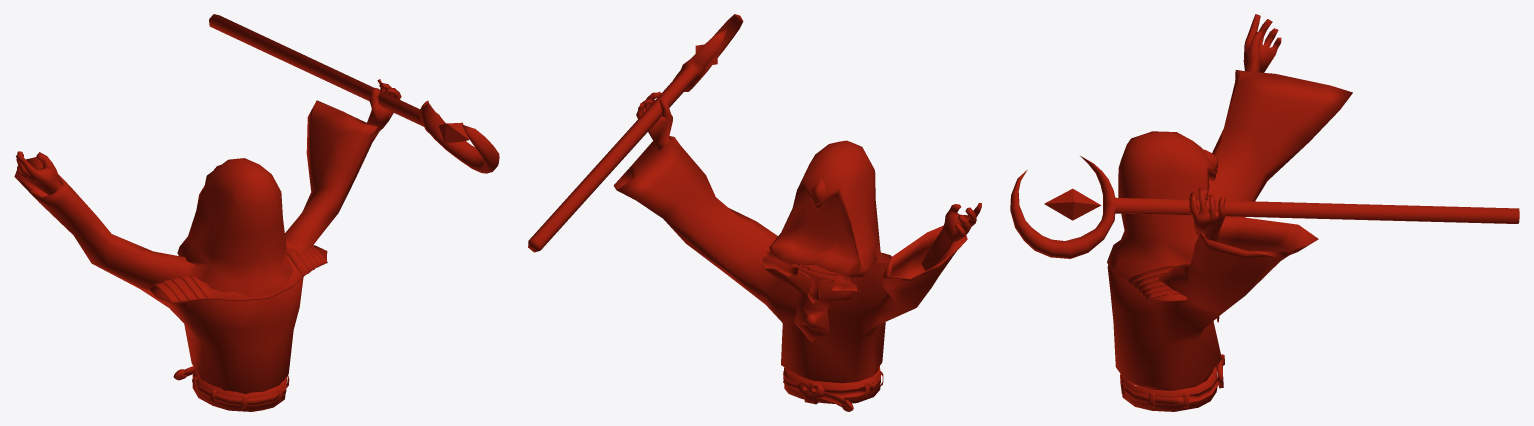
File: top_000031.obj
The picture shows the model from 3 angles, left to right: view 1: azimuth 30°, elevation 25°; view 2: azimuth 150°, elevation 25°; view 3: azimuth 270°, elevation 25°; orthographic projection. The views are drawn at different scales.
Parts seen in each view (by area): view 1: LowPoly_Warlock.000_Plane.005; view 2: LowPoly_Warlock.000_Plane.005; view 3: LowPoly_Warlock.000_Plane.005.
Boxes of the visible parts, <box> form: LowPoly_Warlock.000_Plane.005: <box>14,14,499,411</box>; LowPoly_Warlock.000_Plane.005: <box>528,14,981,411</box>; LowPoly_Warlock.000_Plane.005: <box>1010,14,1519,411</box>.
Bounding box in the file's own units: 1.81 × 1.29 × 1.89.
